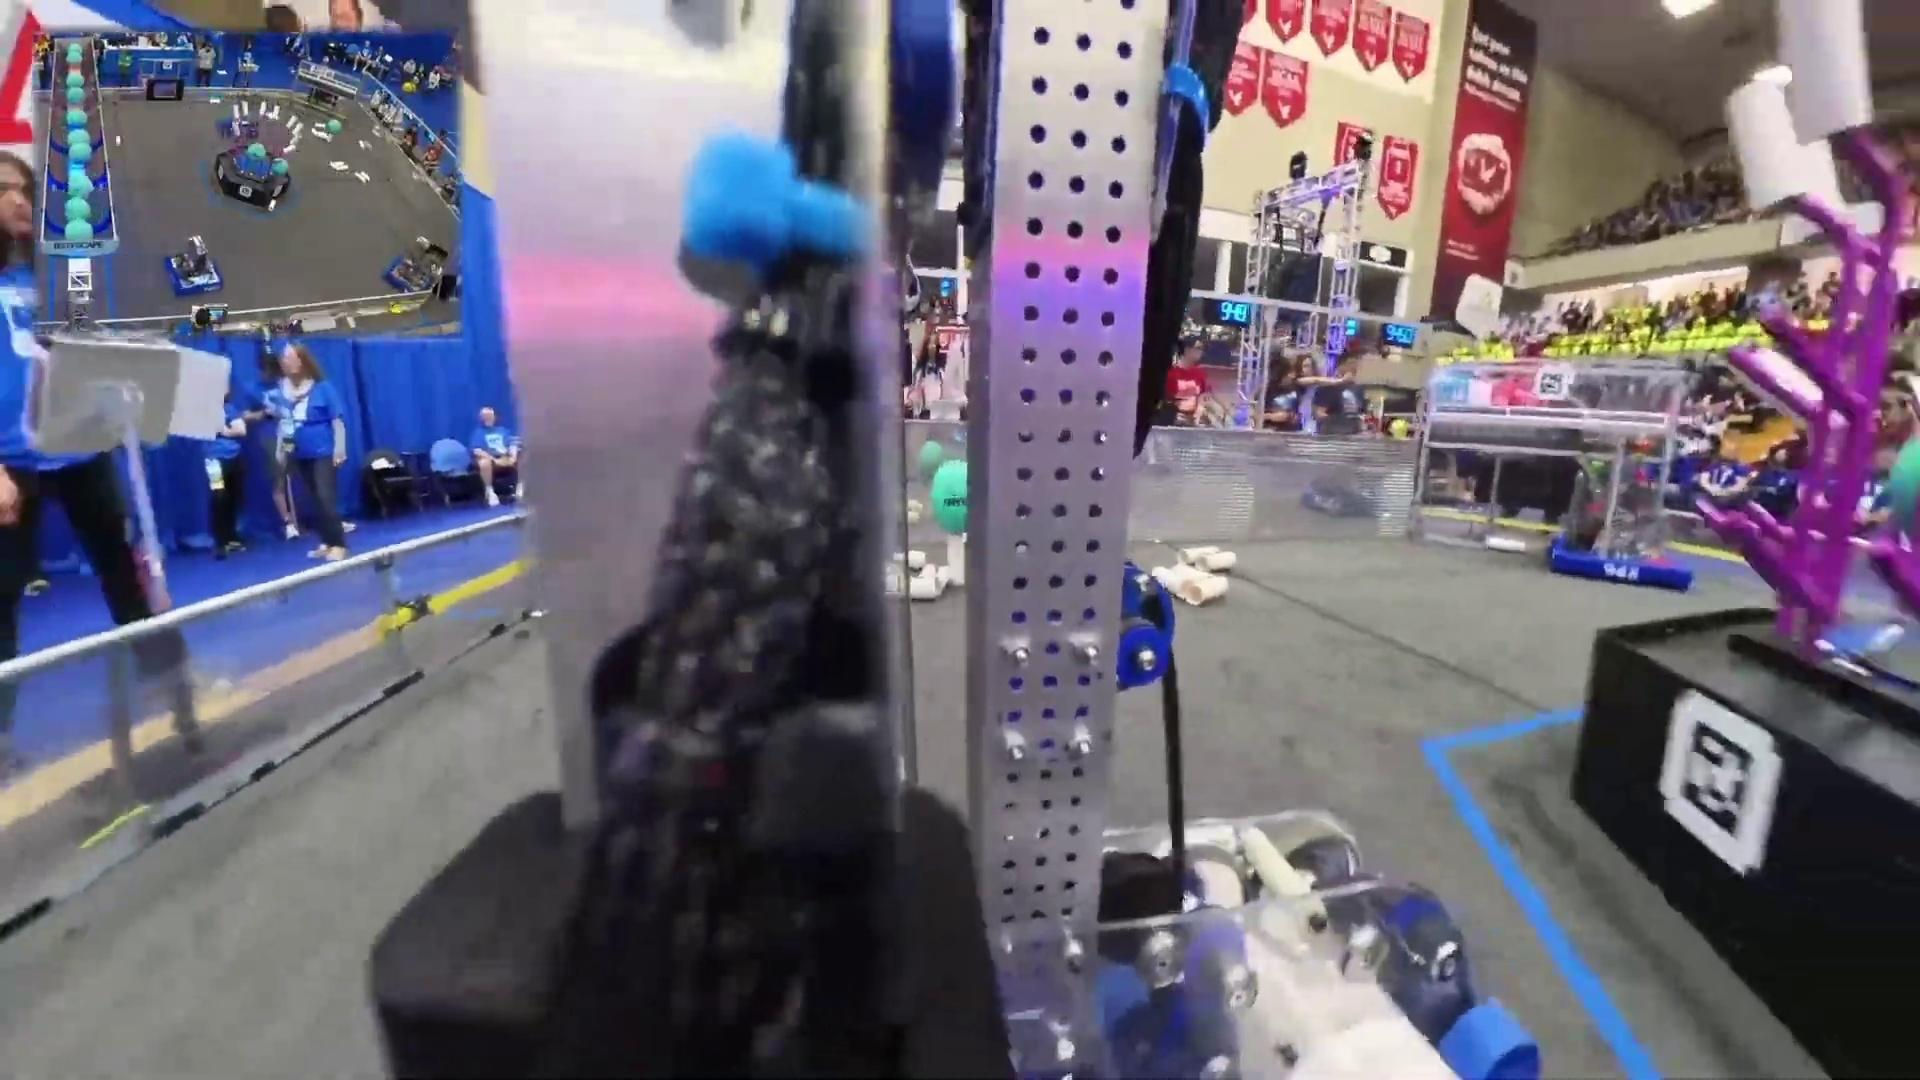robot: (1547, 439, 1697, 589), (165, 229, 222, 295), (378, 236, 443, 291)
